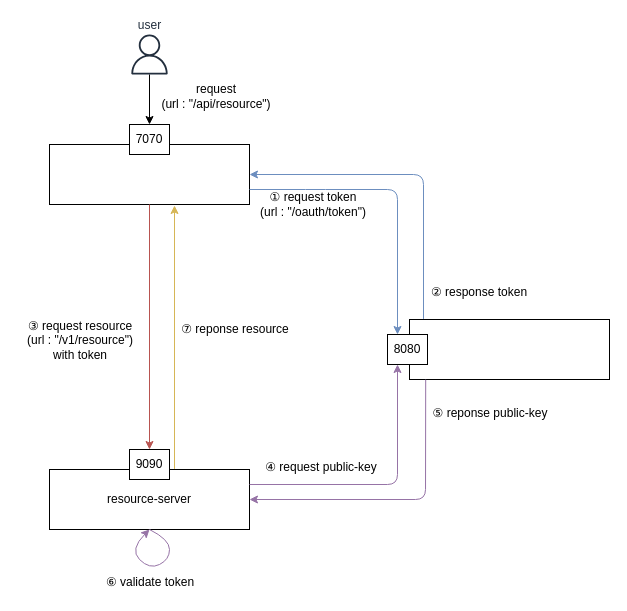
This 627x611 diagram has some shape labels left out. The box of each missing label's shape, as (x1, y1, x2, y2) in pixels:
authorization-server: (408, 318, 610, 380)
resource-client: (48, 144, 250, 204)
